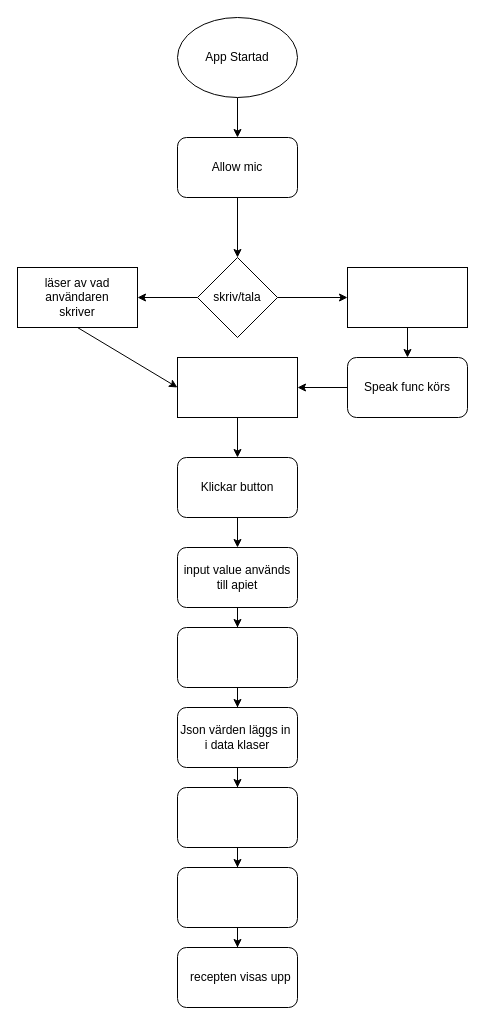
Image size: 485x1025. Some labels were removed from this diagram. The box of each missing label's shape, as (x1, y1, x2, y2) in pixels:
Adaptern hantera värden lägger in i recycle view: (176, 866, 298, 928)
får tillbaka Json: (176, 626, 298, 688)
input Value: (176, 356, 298, 418)
läser av användaren säger: (346, 266, 468, 328)
Skickas vidare till adaptern: (176, 786, 298, 848)
